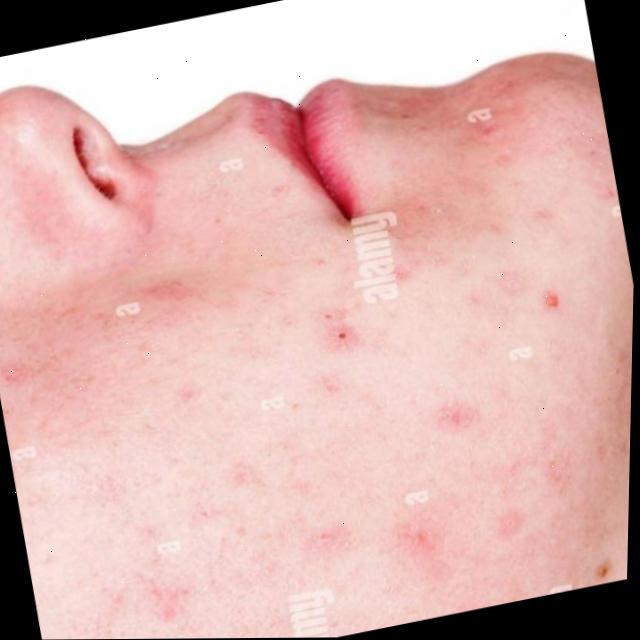Acne: (84, 187, 559, 625)
